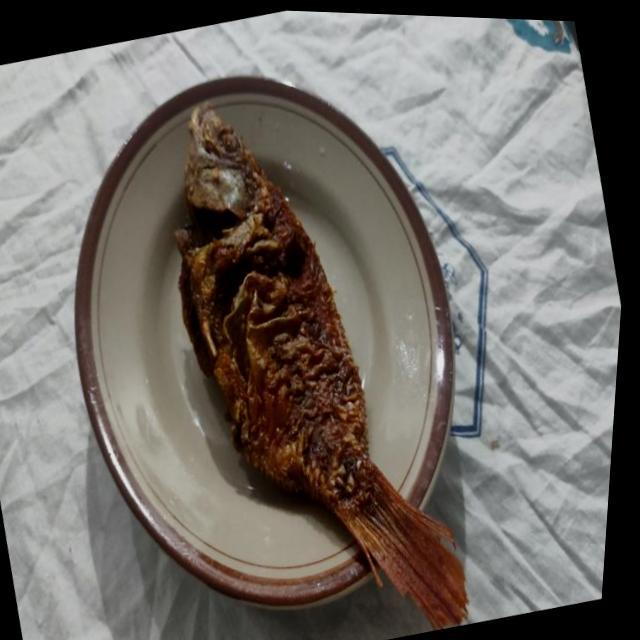ikan_mujair: (175, 103, 468, 630)
